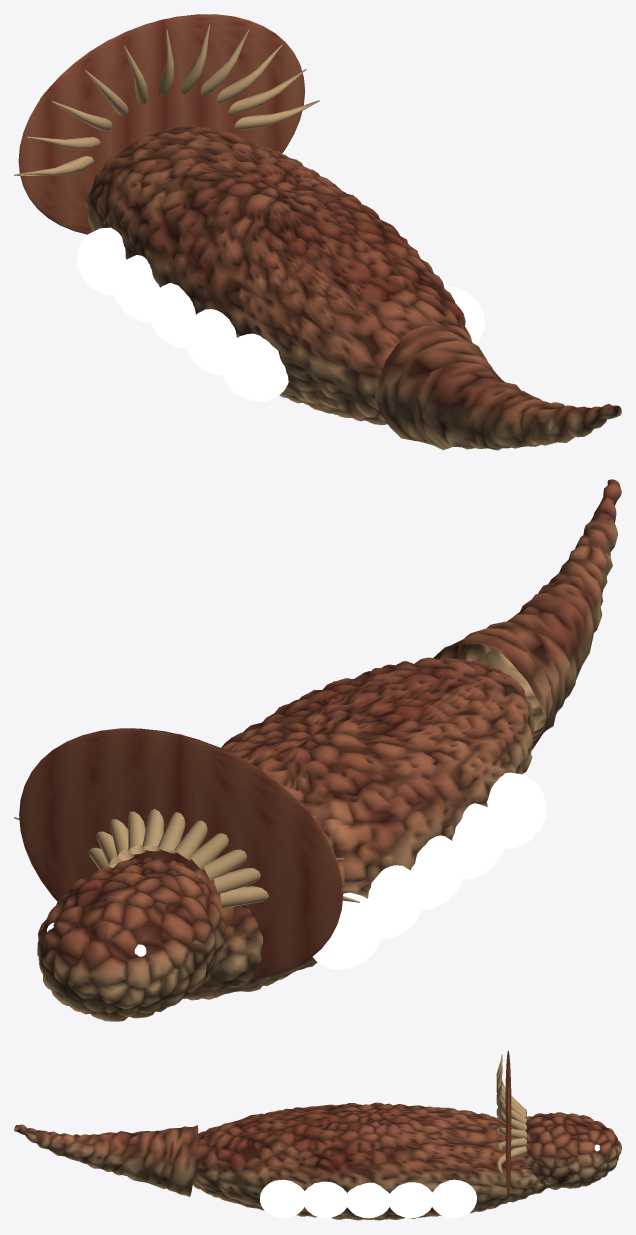
File: ruuvak_cruiser.glb
3 views of the same model, one above another, from view 1: azimuth 30°, elevation 25°; view 2: azimuth 150°, elevation 25°; view 3: azimuth 270°, elevation 25° (orthographic). The views are drawn at different scales.
Parts seen in each view (by area): view 1: ruuvak_cruiser; view 2: ruuvak_cruiser; view 3: ruuvak_cruiser.
Part boxes in pixels (x1,y1,x2,y2): ruuvak_cruiser: (14,14,621,450); ruuvak_cruiser: (14,479,621,1021); ruuvak_cruiser: (14,1050,621,1220).
Size of the model in its own units: 3.41 by 2.71 by 10.
